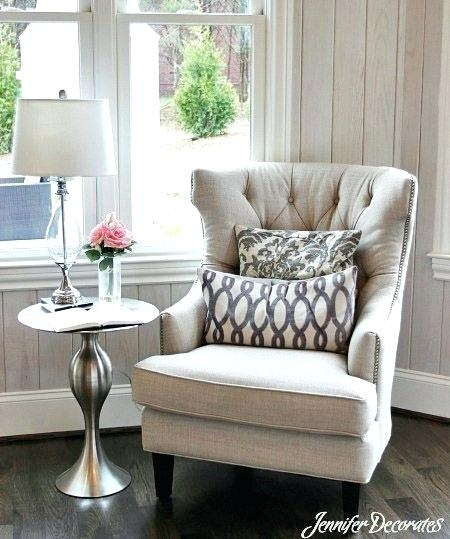chairs: (130, 157, 421, 534)
